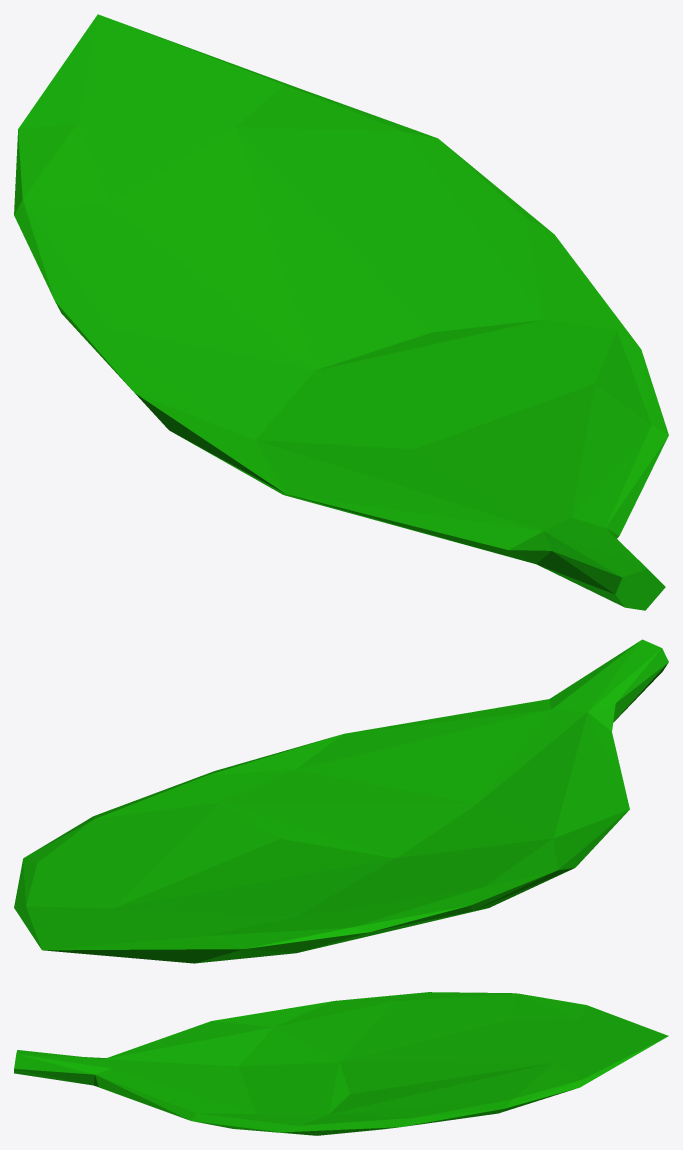
Rendered from stm_prop_giant_leaf1.fbx.
3 views of the same model, one above another, from view 1: azimuth 30°, elevation 25°; view 2: azimuth 150°, elevation 25°; view 3: azimuth 270°, elevation 25° (orthographic). The views are drawn at different scales.
Visible parts, largest first — view 1: Loft; view 2: Loft; view 3: Loft.
Boxes of the visible parts, x1,y1,x2,y2 form: Loft: (14, 14, 668, 610); Loft: (14, 639, 668, 963); Loft: (14, 992, 668, 1135).
Bounding box in the file's own units: 1552 × 460 × 3507.
